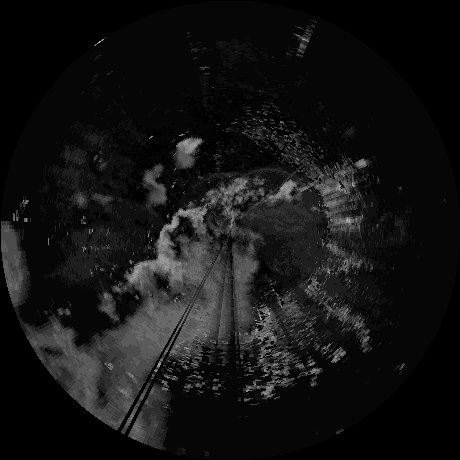frontgust: (244, 166, 302, 180)
